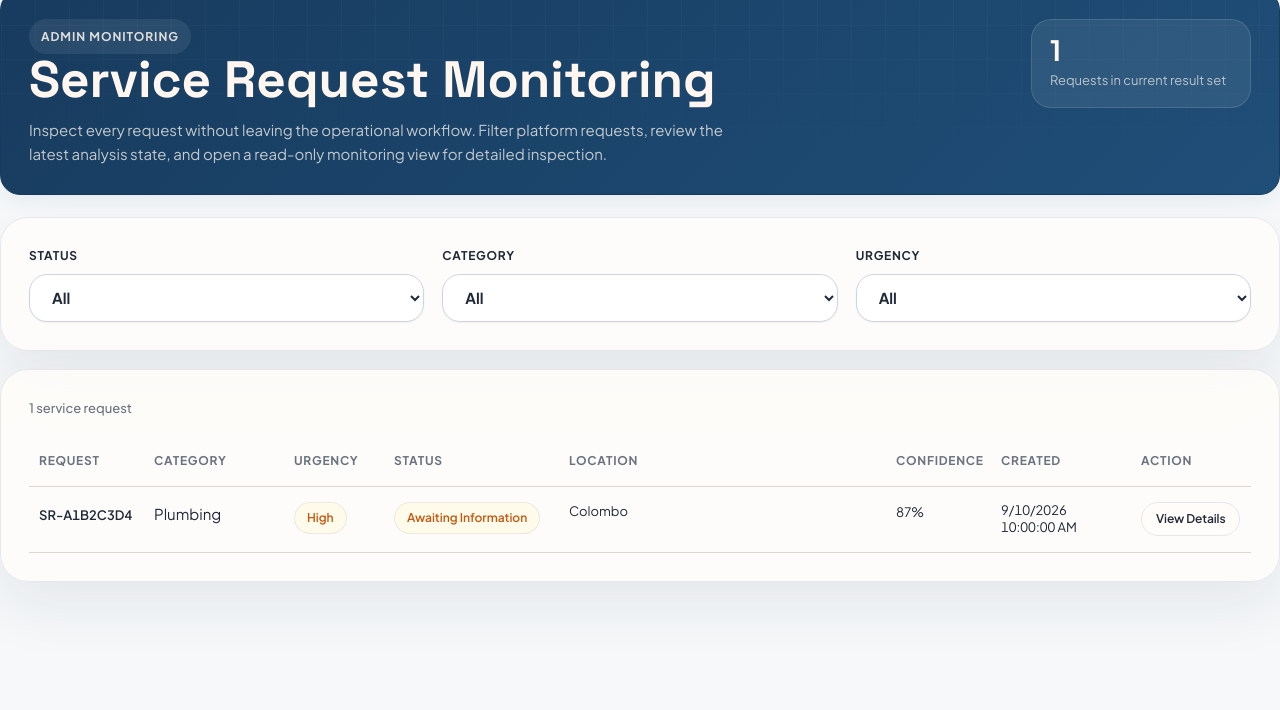
Test: Read-only authoritative request details › preserves clarification order and distinguishes unanswered and superseded questions
The image size is (1280, 710).
Click the button "View Details". click: (1191, 519)
box: left=1141, top=502, right=1240, bottom=536
(page scrolled)
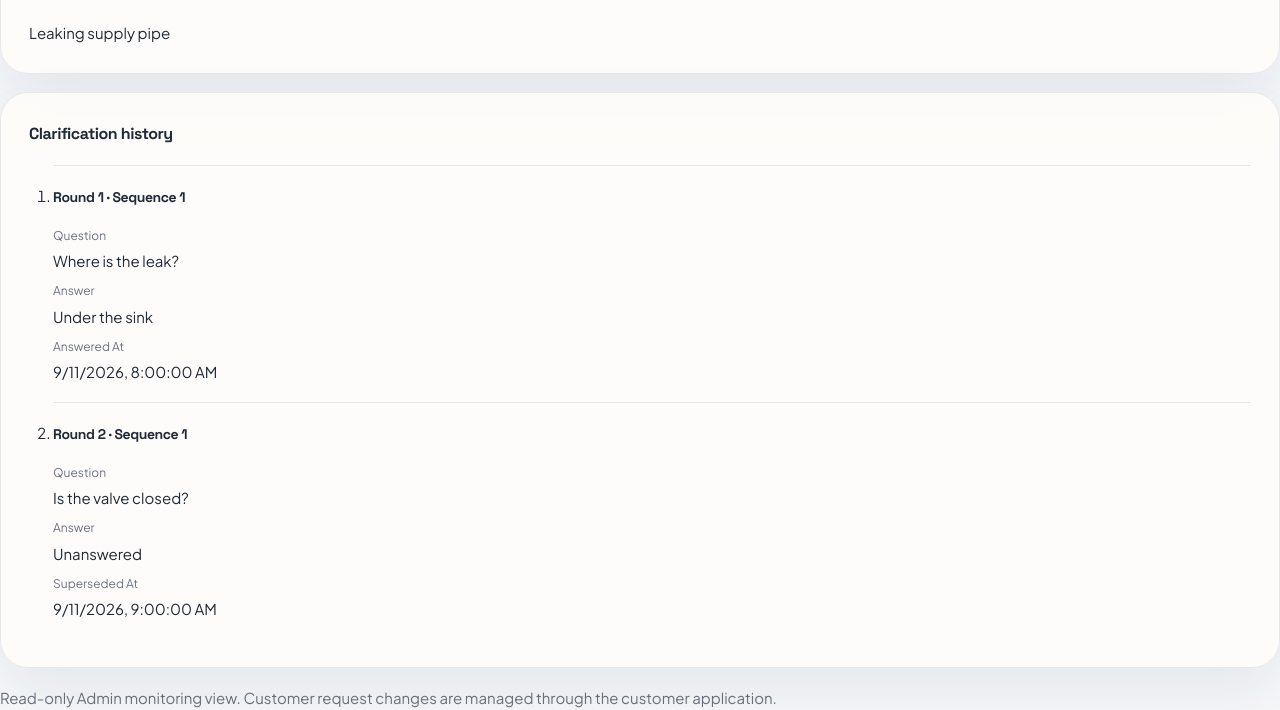
Expected: the 1st list item shows "Round 1 · Sequence 1", left=53, top=165, right=1251, bottom=402
Expected: the 1st list item shows "Where is the leak?", left=53, top=251, right=179, bottom=270
Expected: the 1st list item shows "Under the sink", left=53, top=307, right=153, bottom=326
